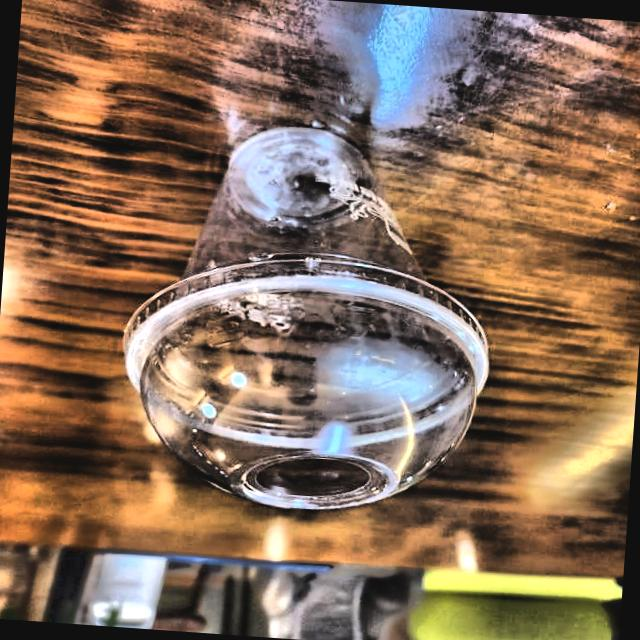plastic cup: (88, 70, 534, 536)
